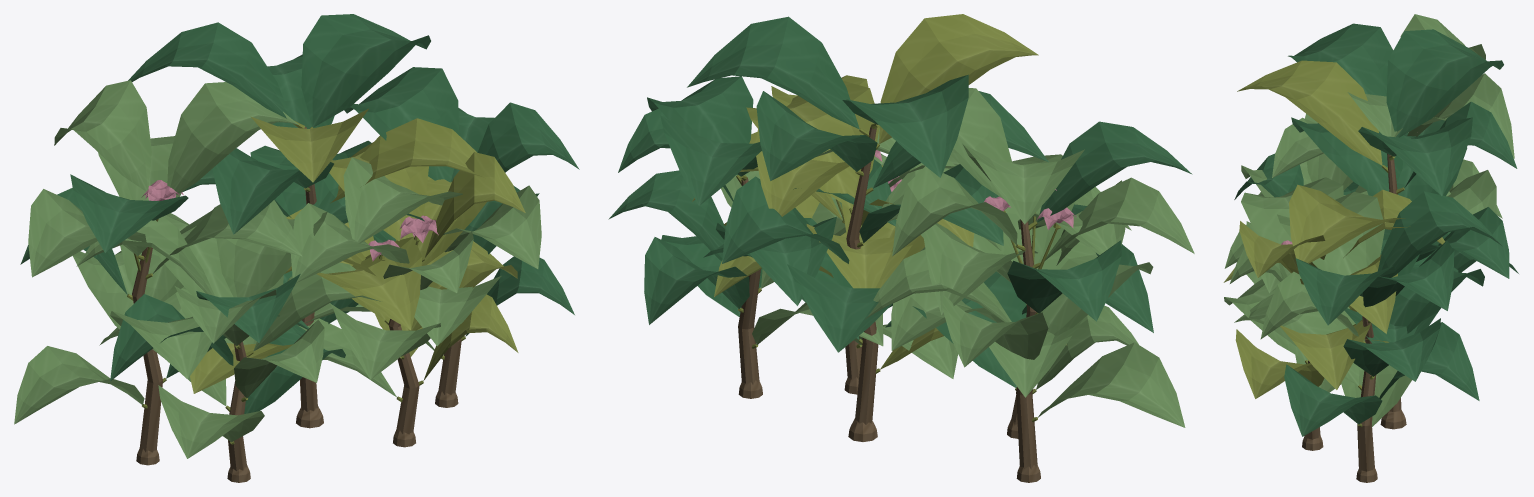
Rendered from AST-BOT-002_pool_loggia_mass_02.glb.
3 views of the same model, side by side, from view 1: azimuth 30°, elevation 25°; view 2: azimuth 150°, elevation 25°; view 3: azimuth 270°, elevation 25° (orthographic). The views are drawn at different scales.
Parts seen in each view (by area): view 1: AST-BOT-002_pool_loggia_mass_02; view 2: AST-BOT-002_pool_loggia_mass_02; view 3: AST-BOT-002_pool_loggia_mass_02.
Boxes of the visible parts, x1=… form: AST-BOT-002_pool_loggia_mass_02: x1=14, y1=14, x2=579, y2=482; AST-BOT-002_pool_loggia_mass_02: x1=608, y1=14, x2=1194, y2=482; AST-BOT-002_pool_loggia_mass_02: x1=1223, y1=14, x2=1518, y2=482.
Size of the model in its own units: 2.24 by 1.5 by 1.17.
5 materials, 5 textured.
